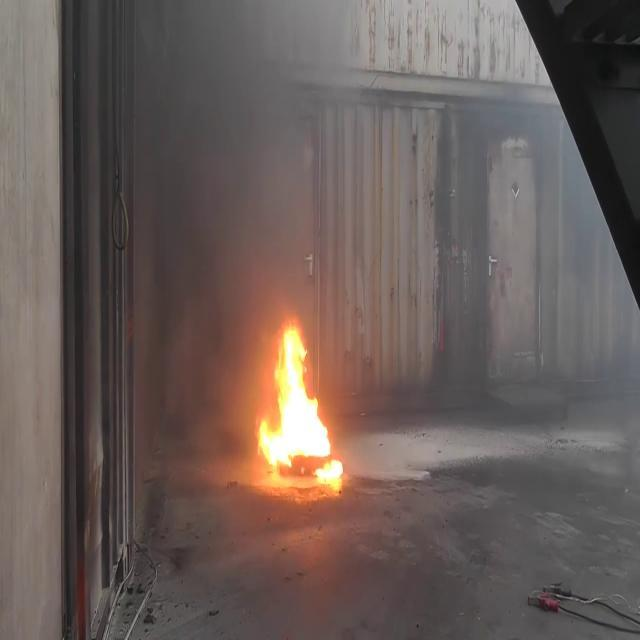Fire: (254, 312, 346, 486)
Smoke: (136, 1, 334, 439)
